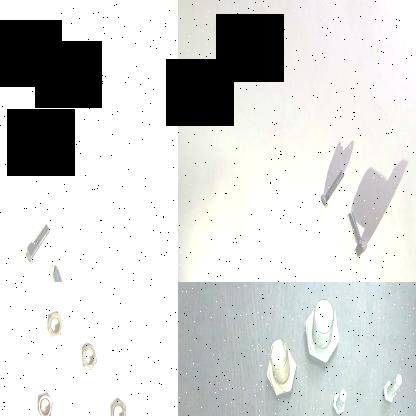Bolts: (302, 288, 340, 366), (263, 328, 299, 400), (20, 215, 52, 265), (342, 206, 370, 260), (318, 164, 346, 212), (373, 364, 406, 404), (328, 383, 348, 416), (49, 261, 75, 282)
NUTS: (43, 305, 64, 341), (80, 336, 100, 372), (34, 386, 53, 416), (108, 393, 126, 416)
